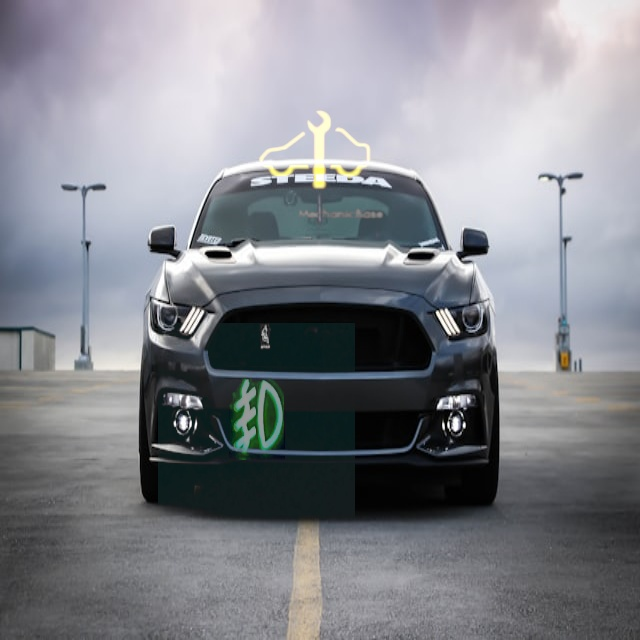symbol: (158, 323, 355, 520), (239, 76, 389, 226)
